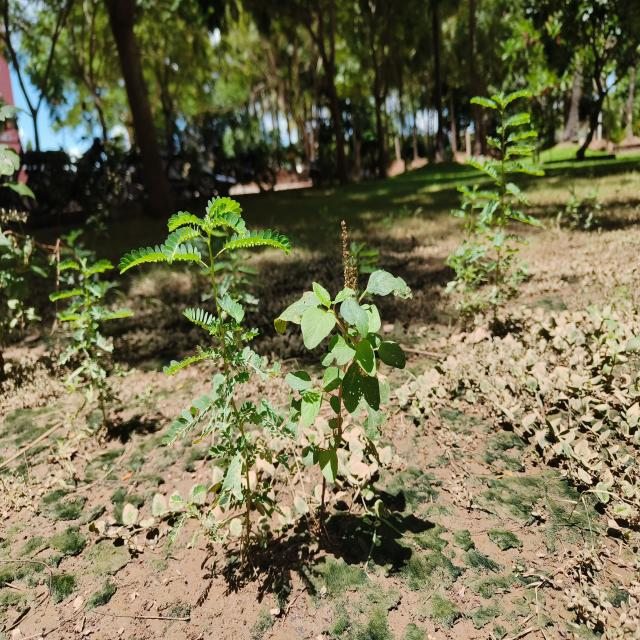weed: (128, 191, 296, 532), (283, 267, 408, 452)
